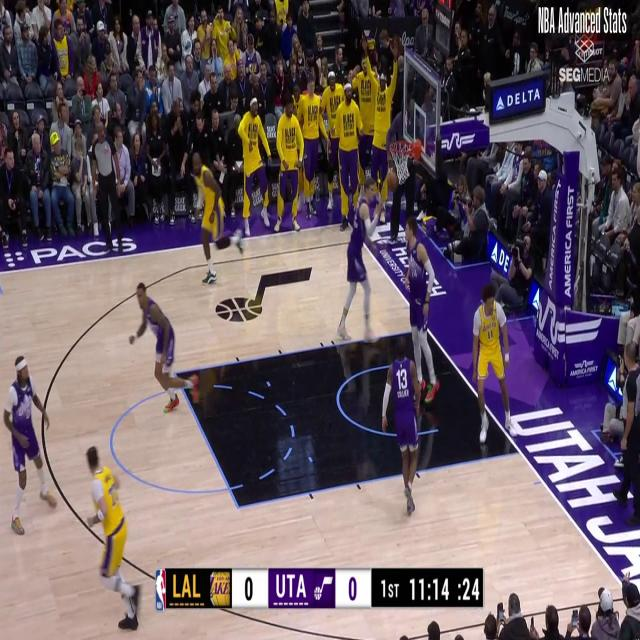ball: (384, 169, 399, 195)
judge: (612, 339, 640, 519), (93, 123, 121, 252)
player: (82, 448, 140, 625), (2, 357, 54, 531), (129, 283, 200, 409), (188, 150, 248, 286), (471, 280, 518, 446), (334, 176, 378, 347), (401, 212, 438, 401), (385, 340, 419, 511)
